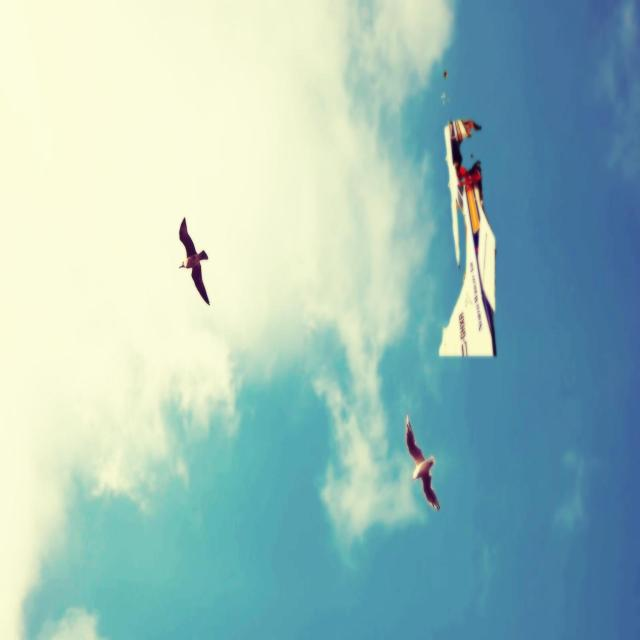airplane: (438, 118, 497, 358)
